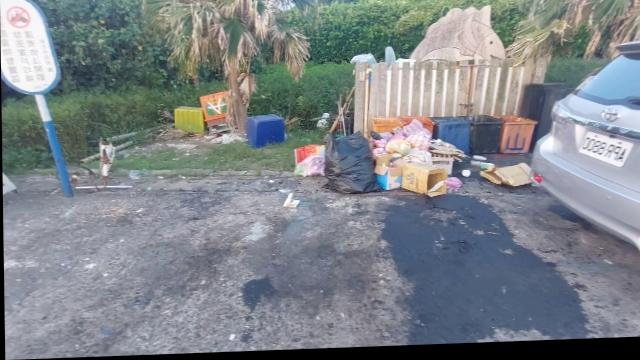pollute: (293, 120, 536, 201), (173, 91, 246, 147), (244, 118, 283, 149), (98, 144, 117, 178), (283, 194, 299, 211)
